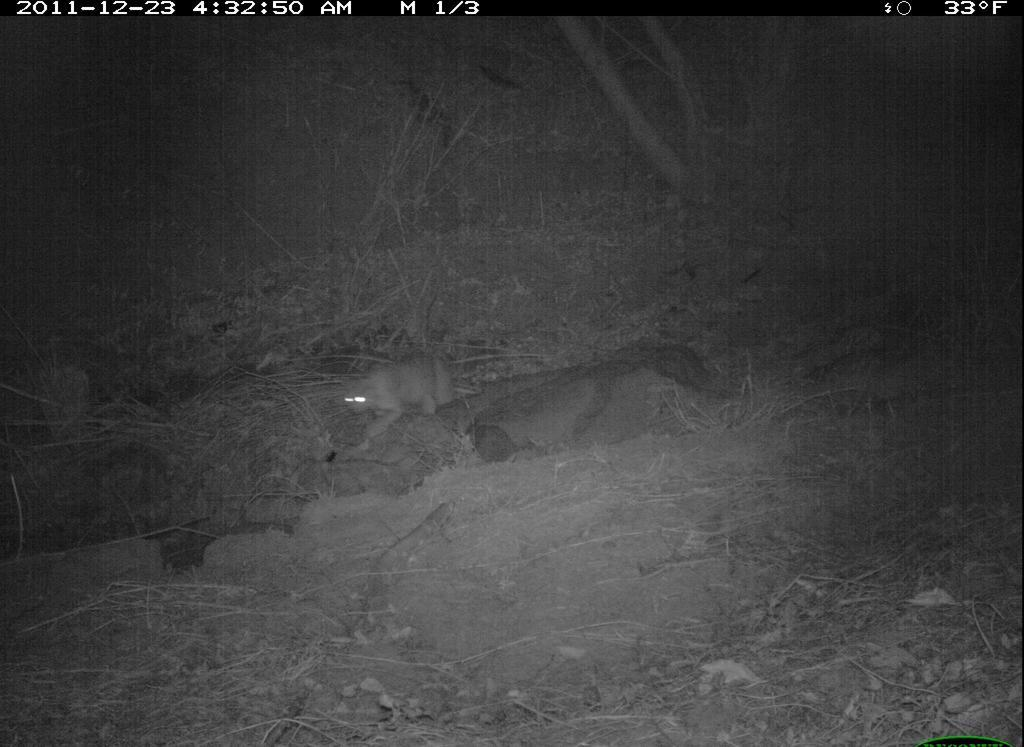bobcat: (332, 355, 470, 451)
